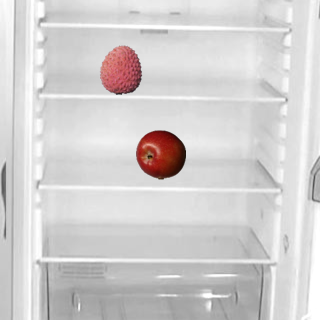Apple Braeburn: (135, 129, 185, 179)
Lychee: (95, 44, 145, 94)
